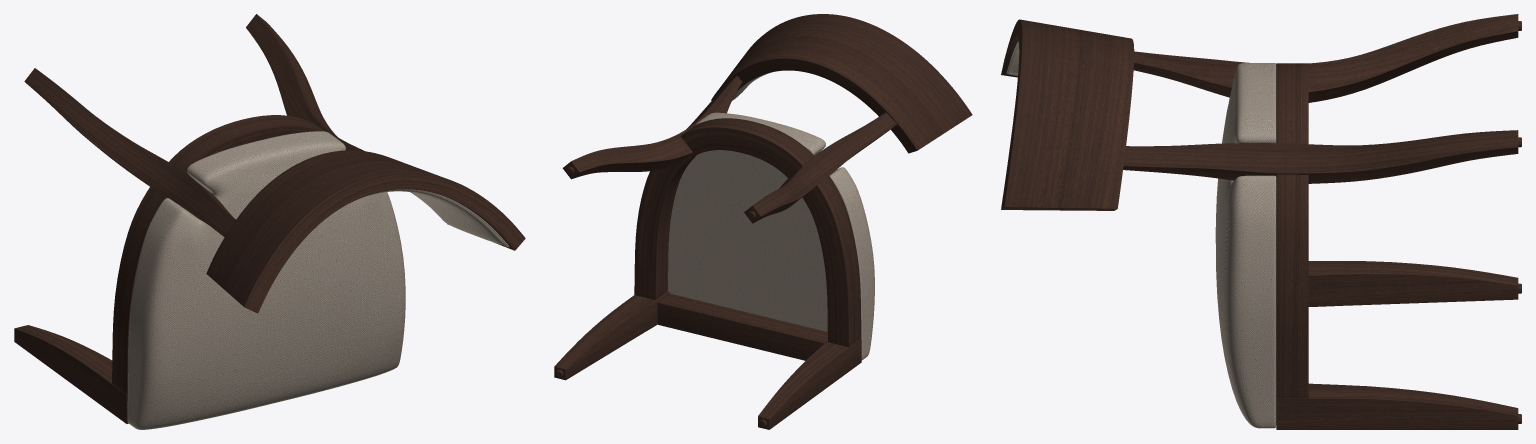
Rendered from Philippe Hurel_Peggy_Chair N040226.obj.
3 views of the same model, side by side, from view 1: azimuth 30°, elevation 25°; view 2: azimuth 150°, elevation 25°; view 3: azimuth 270°, elevation 25° (orthographic). The views are drawn at different scales.
Parts seen in each view (by area): view 1: Peggy_4, Peggy_5, Peggy_2_H, Peggy_3, Peggy_2, Peggy_6; view 2: Peggy_4, Peggy_3, Peggy_5, Peggy_2_H, Peggy_2; view 3: Peggy_2_H, Peggy_5, Peggy_4, Peggy_2, Peggy_3.
Boxes of the visible parts, x1,y1,x2,y2 form: Peggy_4: (127, 131, 405, 429); Peggy_5: (206, 150, 525, 313); Peggy_2_H: (24, 14, 364, 236); Peggy_3: (112, 115, 324, 394); Peggy_2: (14, 325, 128, 423); Peggy_6: (351, 189, 509, 247); Peggy_4: (667, 112, 874, 360); Peggy_3: (634, 118, 861, 360); Peggy_5: (711, 14, 972, 153); Peggy_2_H: (562, 76, 897, 223); Peggy_2: (554, 291, 861, 429); Peggy_2_H: (1123, 14, 1518, 183); Peggy_5: (1001, 19, 1134, 210); Peggy_4: (1215, 63, 1276, 428); Peggy_2: (1276, 261, 1518, 429); Peggy_3: (1276, 63, 1308, 398).
Size of the model in its own units: 558 by 574 by 832.
